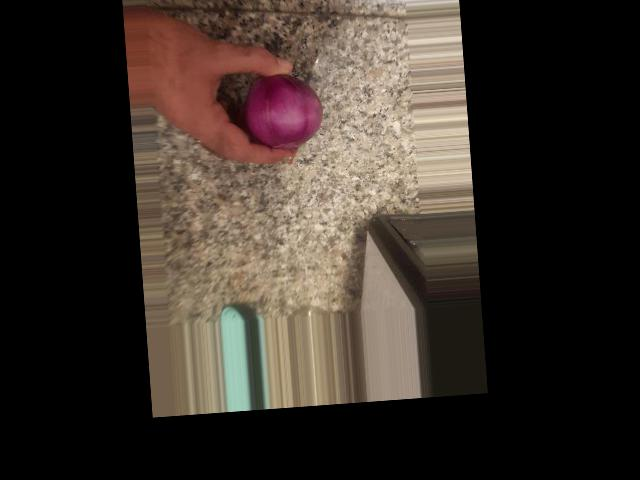onion: (246, 62, 323, 157)
